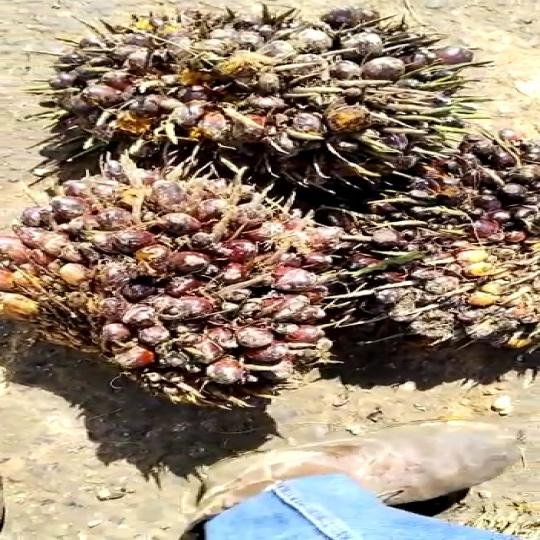kurang masak: (0, 170, 353, 421), (52, 0, 450, 190), (317, 128, 540, 348)
